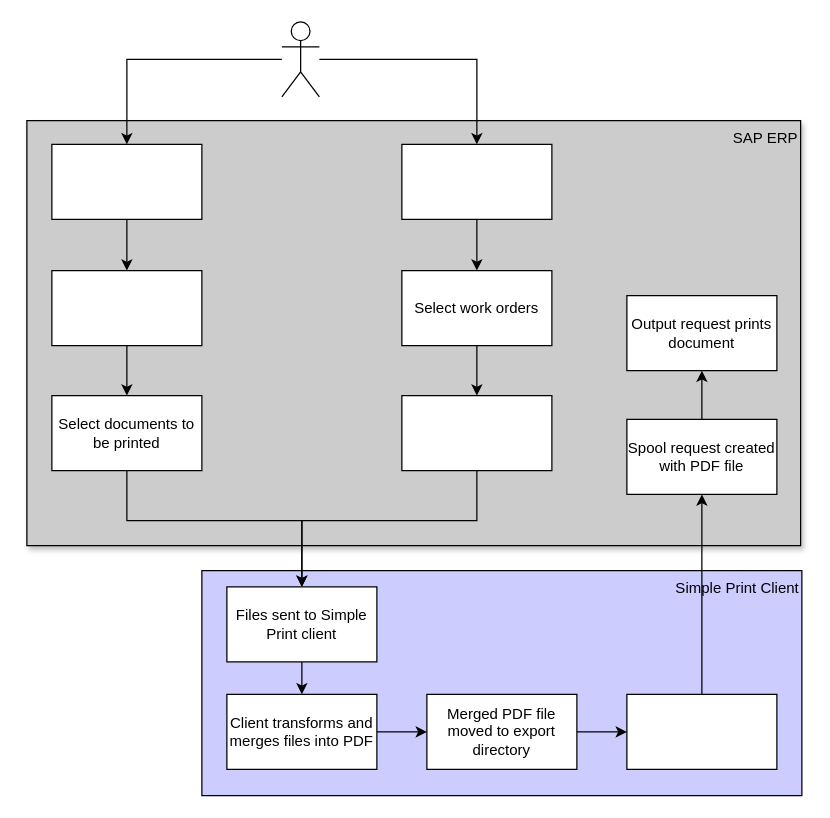
The diagram is 830 pixels wide and 818 high, and some of its shapes have lost their labels. Each missing label, with the centre of its shape:
"IW32/IW33" belongs at (126,181).
"IW38" belongs at (476,181).
"Push PDF file to SAP print spool" belongs at (701,731).
"Select documents" belongs at (476,432).
"Show all documents for work order" belongs at (126,307).
